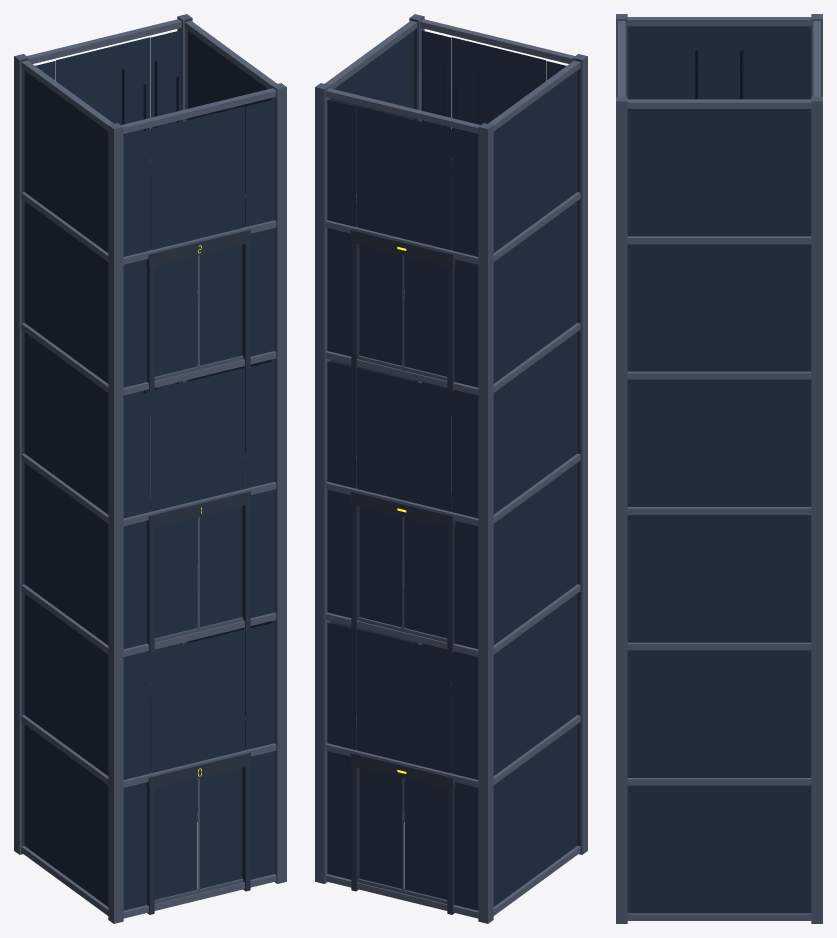
Rendered from mall_elevator.glb.
The picture shows the model from 3 angles, left to right: view 1: azimuth 30°, elevation 25°; view 2: azimuth 150°, elevation 25°; view 3: azimuth 270°, elevation 25°; orthographic projection. The views are drawn at different scales.
Parts seen in each view (by area): view 1: car_glass, box_column, car_pillar, car_shell, suspension; view 2: car_glass, box_column, car_pillar, car_shell, suspension; view 3: car_glass, box_column, car_pillar.
Boxes of the visible parts, left/top/right/bottom form: car_glass: left=24, top=30, right=274, bottom=910; box_column: left=14, top=14, right=286, bottom=923; car_pillar: left=21, top=19, right=276, bottom=918; car_shell: left=21, top=18, right=276, bottom=914; suspension: left=122, top=60, right=178, bottom=397; car_glass: left=327, top=30, right=577, bottom=910; box_column: left=315, top=14, right=587, bottom=923; car_pillar: left=325, top=19, right=580, bottom=918; car_shell: left=325, top=18, right=580, bottom=914; suspension: left=423, top=60, right=479, bottom=397; car_glass: left=627, top=26, right=811, bottom=913; box_column: left=616, top=14, right=822, bottom=923; car_pillar: left=618, top=17, right=820, bottom=920.
Size of the model in its own units: 3.6 by 15.8 by 3.6.
